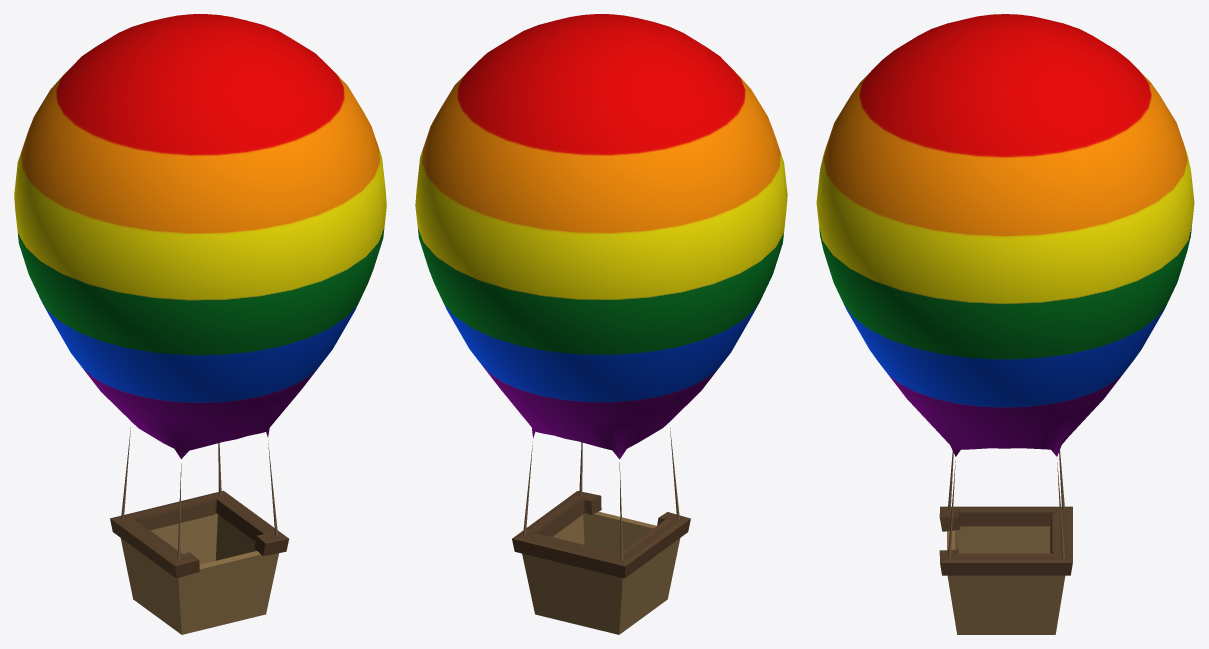
The model's file is 9aae0f7e-1219-4975-ba63-bed01ae497c6.glb.
3 views of the same model, side by side, from view 1: azimuth 30°, elevation 25°; view 2: azimuth 150°, elevation 25°; view 3: azimuth 270°, elevation 25° (orthographic).
Visible parts, largest first — view 1: HotAirBalloon, Basket, Ropes; view 2: HotAirBalloon, Basket, Ropes; view 3: HotAirBalloon, Basket, Ropes.
Part boxes in pixels (<box>): HotAirBalloon: <box>14,14,386,459</box>; Basket: <box>110,490,288,634</box>; Ropes: <box>121,427,278,560</box>; HotAirBalloon: <box>415,14,787,459</box>; Basket: <box>512,491,690,634</box>; Ropes: <box>523,427,679,560</box>; HotAirBalloon: <box>816,14,1194,456</box>; Basket: <box>939,506,1072,634</box>; Ropes: <box>947,450,1064,558</box>.
Size of what is drawn, in the model's own units: 4.8 by 8.17 by 4.8.
Materials: 2 (2 with a texture image).
